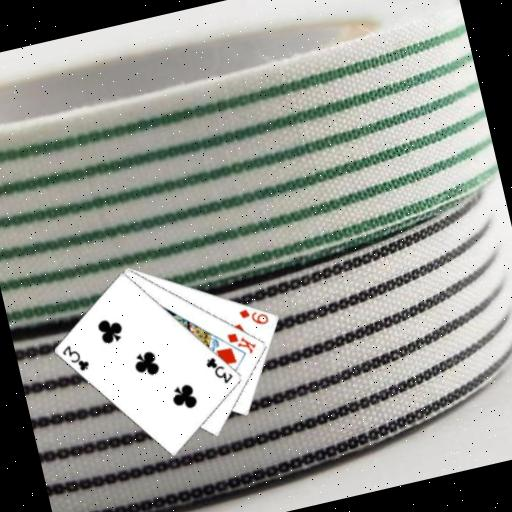3C: (201, 351, 236, 389), (58, 339, 93, 377)
9D: (236, 301, 272, 331)
KD: (223, 325, 259, 360)
